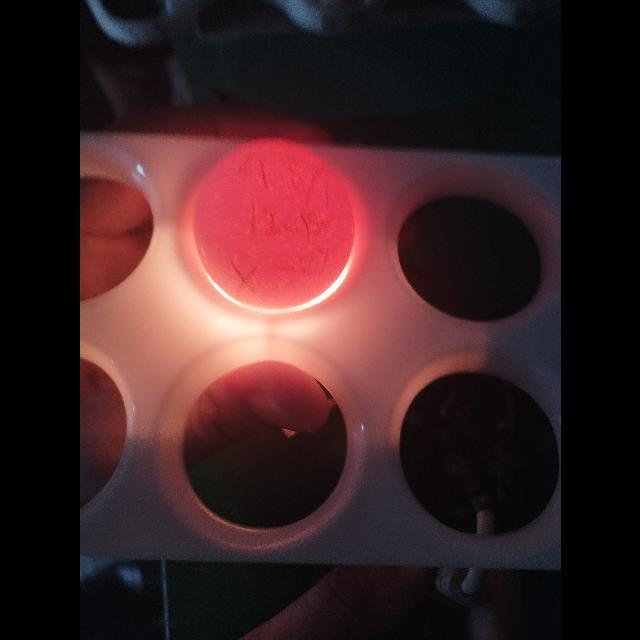Infertile: (188, 132, 358, 314)
